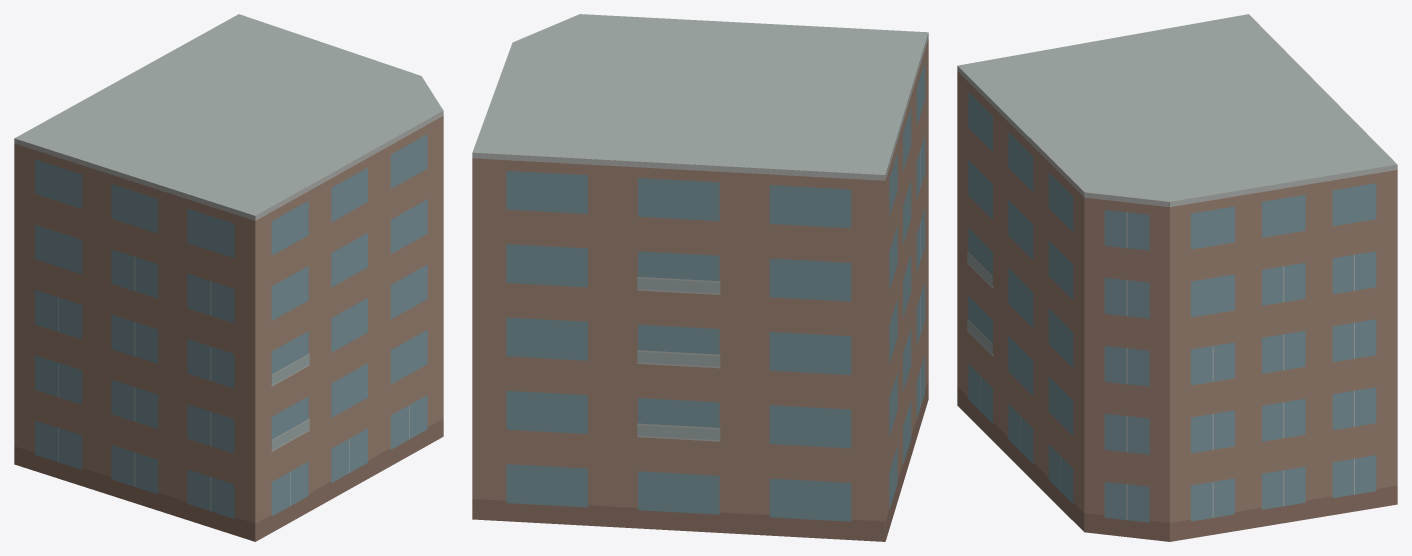
File: survey-upis-32851317.glb
3 views of the same model, side by side, from view 1: azimuth 30°, elevation 25°; view 2: azimuth 150°, elevation 25°; view 3: azimuth 270°, elevation 25° (orthographic). The views are drawn at different scales.
Visible parts, largest first — view 1: survey-upis-32851317.tmp; view 2: survey-upis-32851317.tmp; view 3: survey-upis-32851317.tmp.
Boxes of the visible parts, x1,y1,x2,y2 form: survey-upis-32851317.tmp: [14, 14, 443, 541]; survey-upis-32851317.tmp: [472, 14, 928, 541]; survey-upis-32851317.tmp: [957, 14, 1397, 541].
Bounding box in the file's own units: 18.63 × 15.7 × 18.43.
